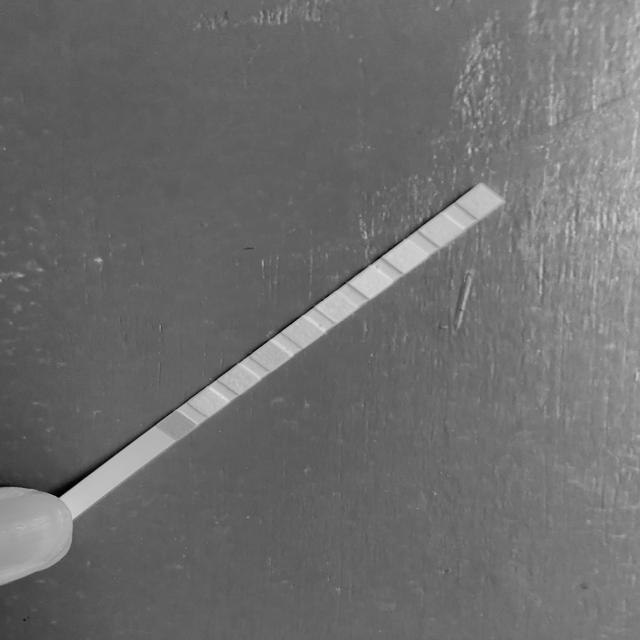Bilirubin: (198, 396, 220, 410)
Blood: (292, 323, 314, 341)
Glucose: (165, 418, 187, 433)
Ketone: (227, 372, 249, 387)
Leukocytes: (469, 193, 490, 211)
Nitrite: (431, 220, 452, 239)
Protein: (359, 273, 382, 292)
SpGravity: (260, 348, 281, 364)
Urobilinogen: (394, 247, 416, 266)
background: (0, 0, 640, 640)
pH: (326, 300, 347, 315)
strip: (63, 184, 506, 512)
